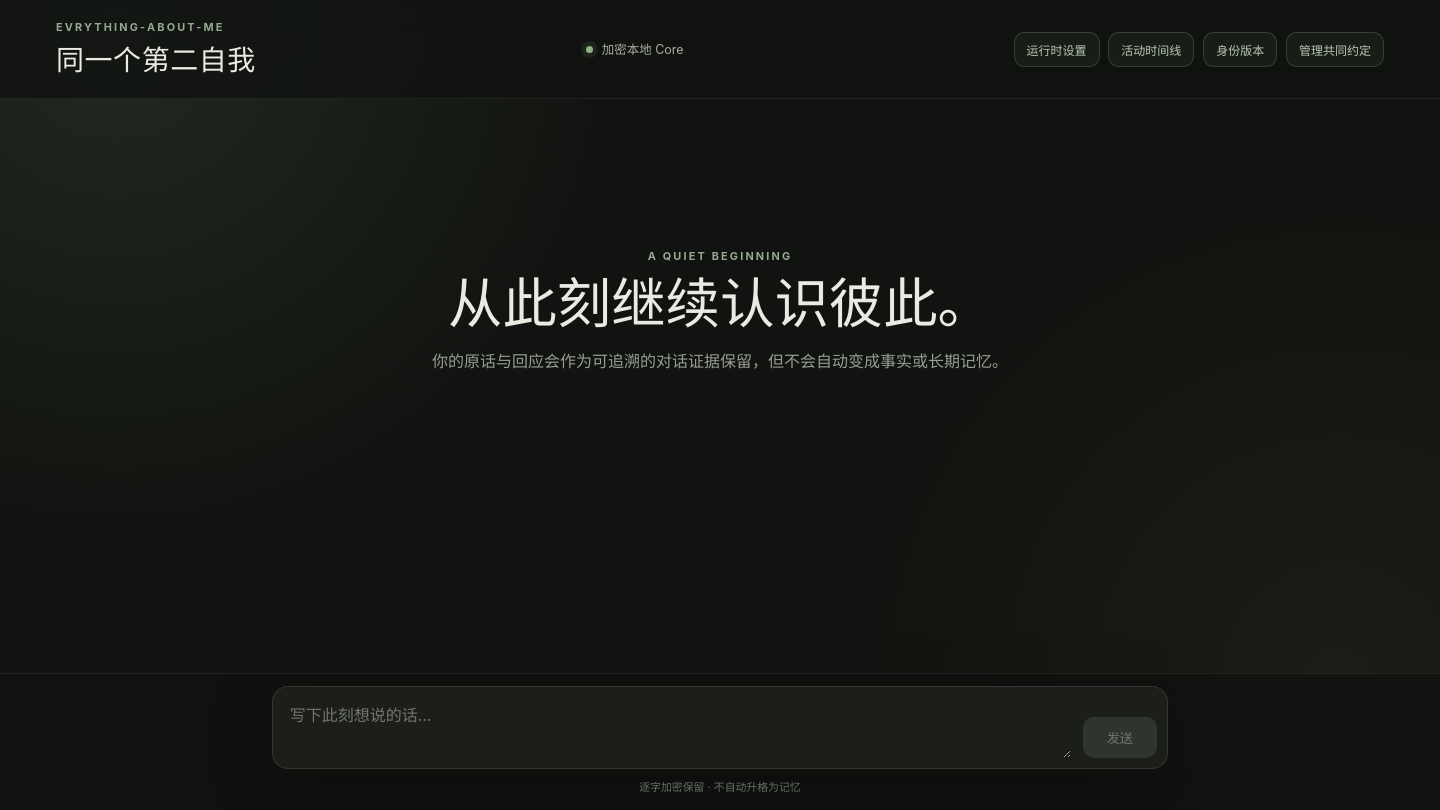
Test: S06R-4 local runtime settings › loads only the redacted profile and starts with an empty password field
Click the button "运行时设置": (1056, 49) [1014, 32, 1100, 67]
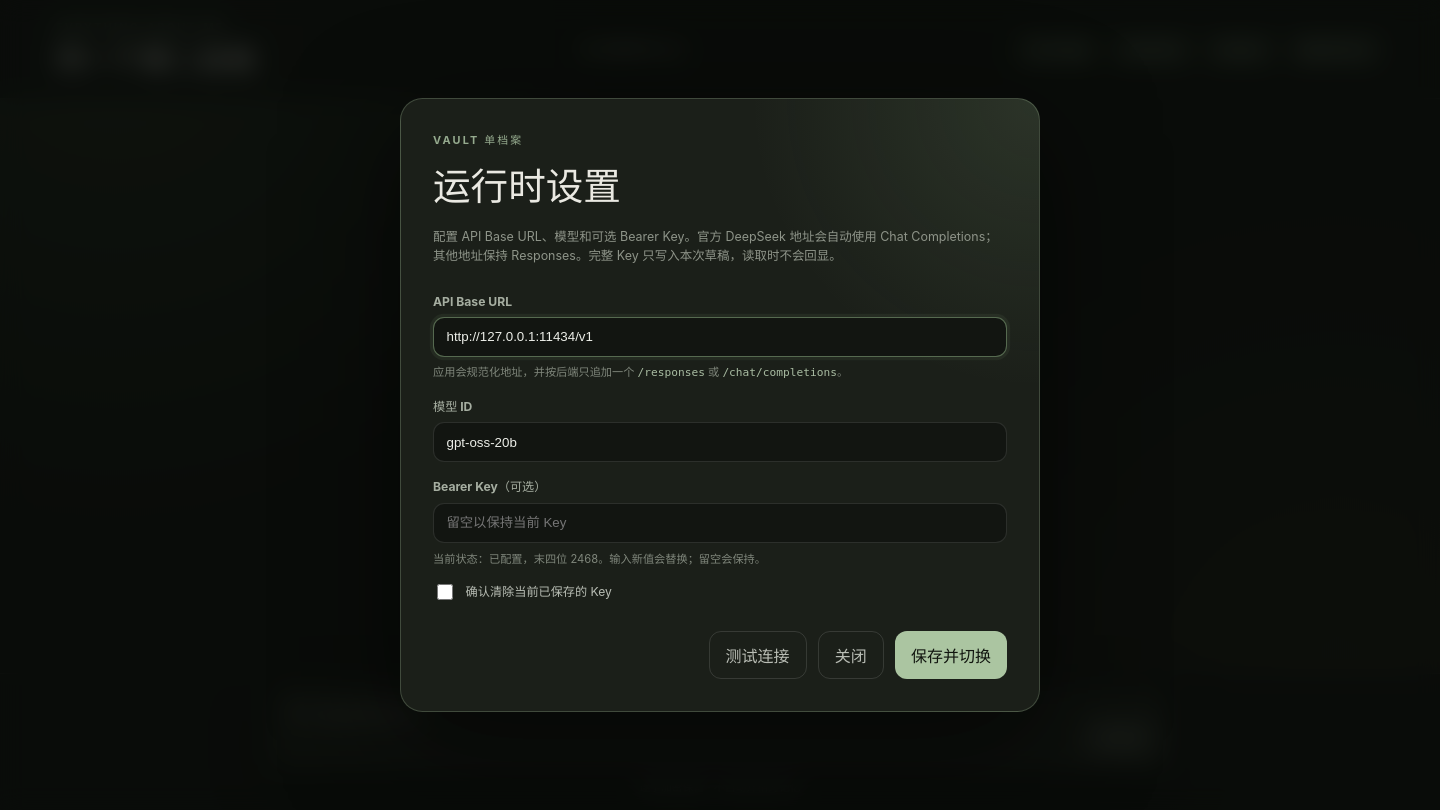
Expected: the text "已配置，末四位 2468" is shown, [489, 552, 598, 566]
Expected: the field with id "runtime-base-url" holds "http://127.0.0.1:11434/v1", [433, 317, 1007, 357]
Expected: the field with id "runtime-model" holds "gpt-oss-20b", [433, 422, 1007, 462]
